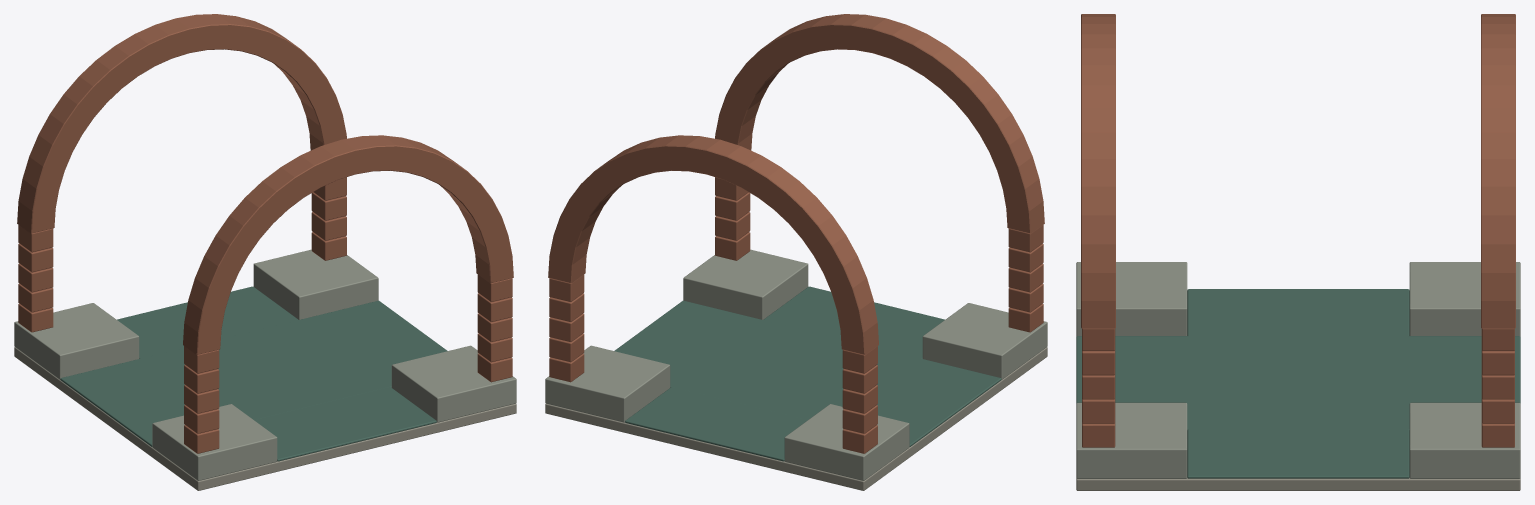
File: undercity-sewers-and-thieves-den-brick-vault-junction-1b38e1f3__25056.glb
3 views of the same model, side by side, from view 1: azimuth 30°, elevation 25°; view 2: azimuth 150°, elevation 25°; view 3: azimuth 270°, elevation 25° (orthographic). The views are drawn at different scales.
Parts seen in each view (by area): view 1: brick-vault-junction; view 2: brick-vault-junction; view 3: brick-vault-junction.
Part boxes in pixels (box(x1,y1,x2,y2)): brick-vault-junction: box(14, 14, 516, 490); brick-vault-junction: box(545, 14, 1047, 490); brick-vault-junction: box(1076, 14, 1520, 490).
Size of the model in its own units: 4 by 3.61 by 4.
